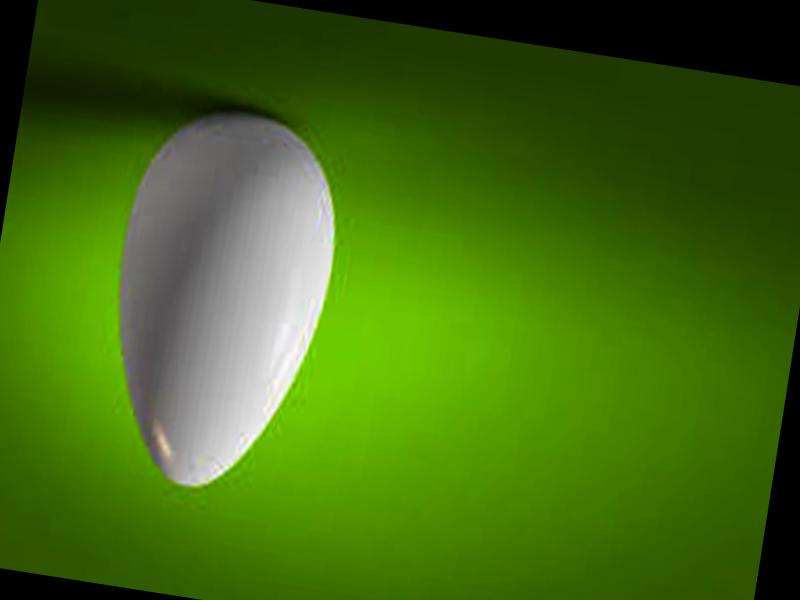Eggs: (87, 99, 352, 508)
